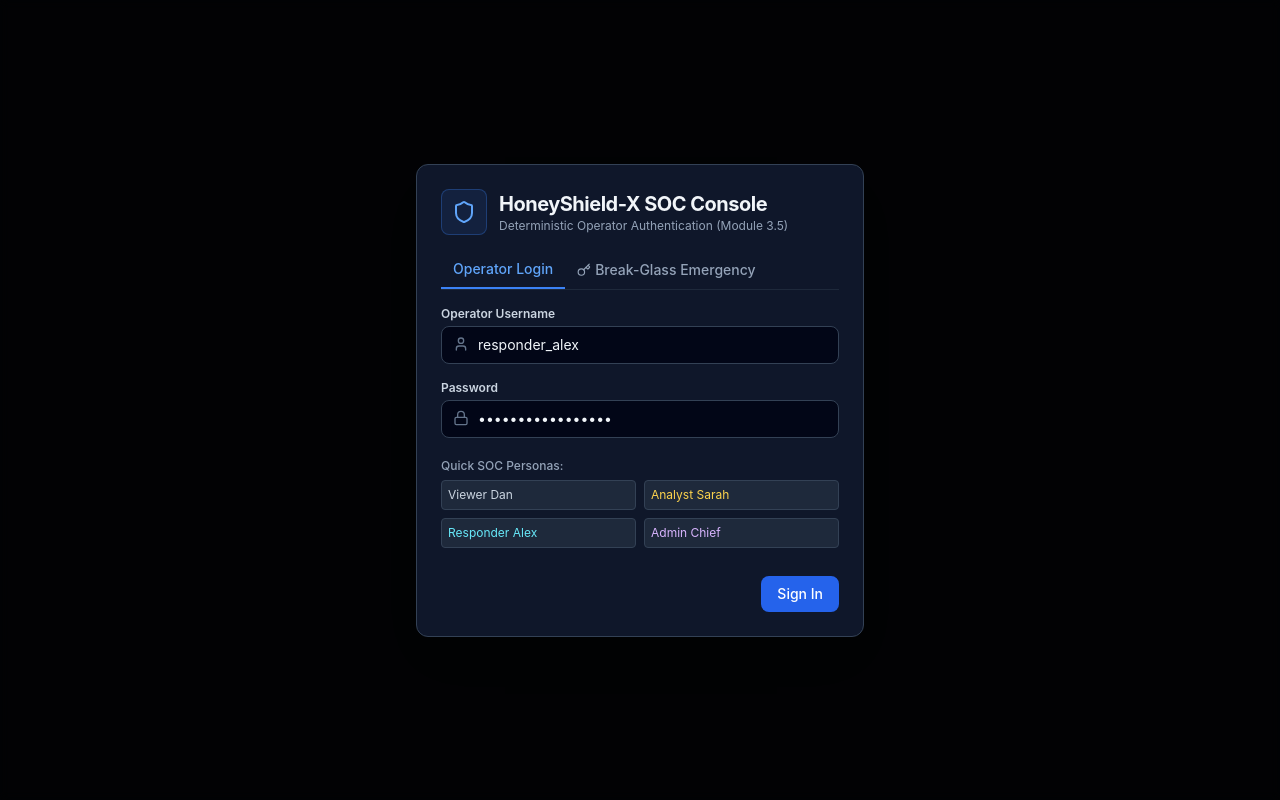
Test: Module 3.5 Operator Authentication & RBAC Components › switches personas and fills credentials in LoginModal
Click the button "Analyst Sarah": (742, 494) 644,480 -> 839,510
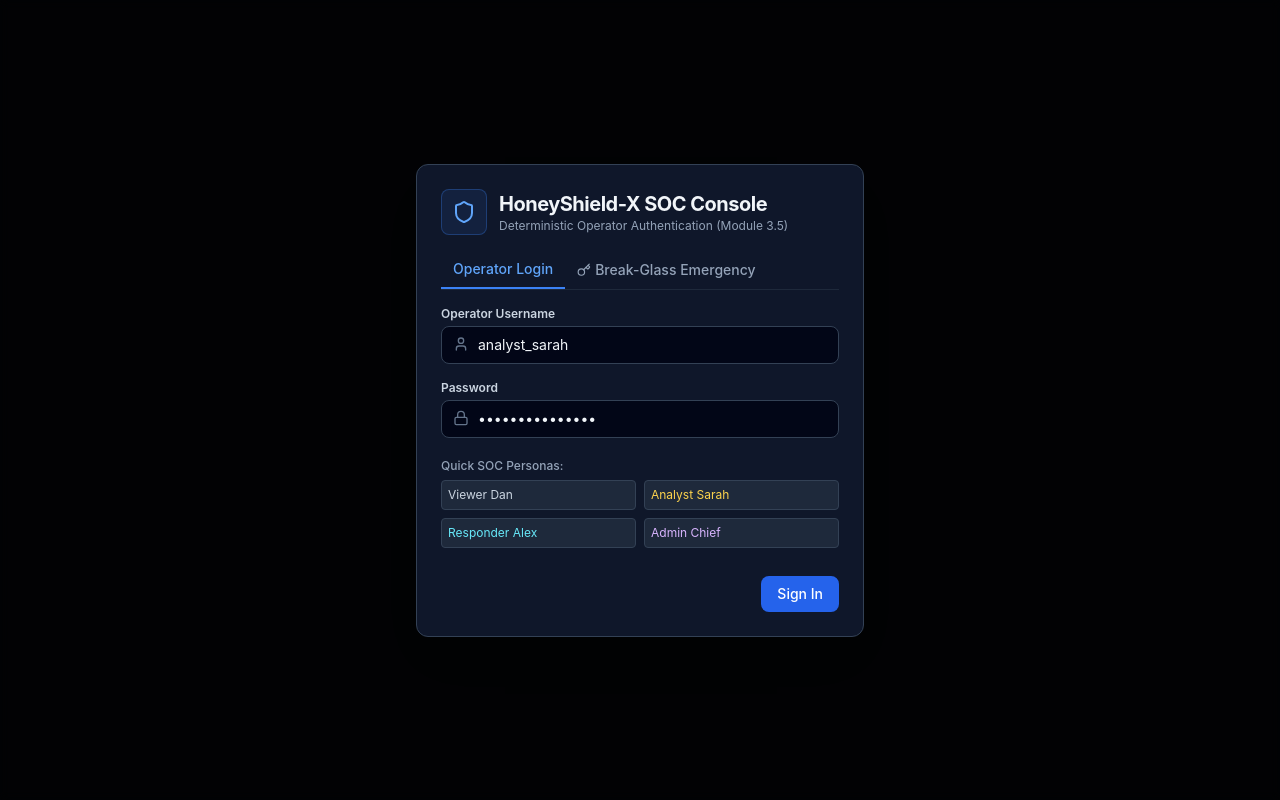
Expected: the field with placeholder "e.g. analyst_sarah" holds "analyst_sarah", 441,326 -> 839,364
